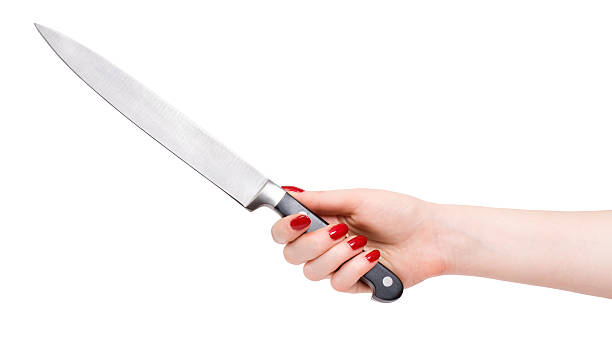knife: (32, 20, 405, 305)
